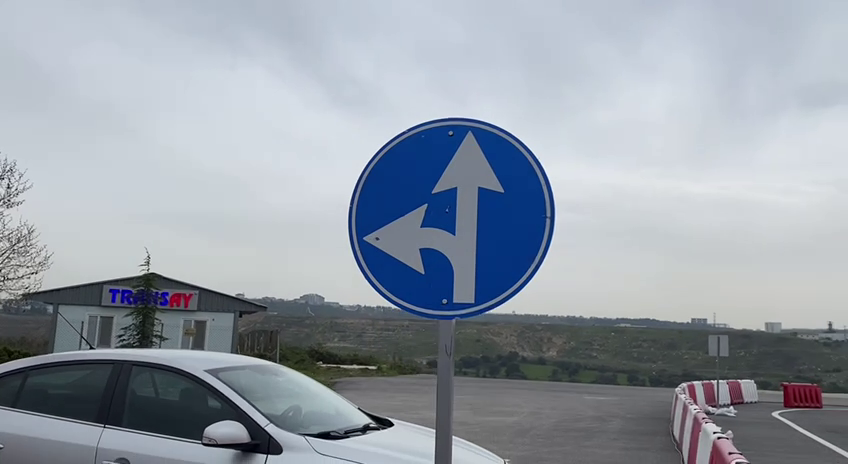forwardAndLeft: (342, 113, 560, 322)
